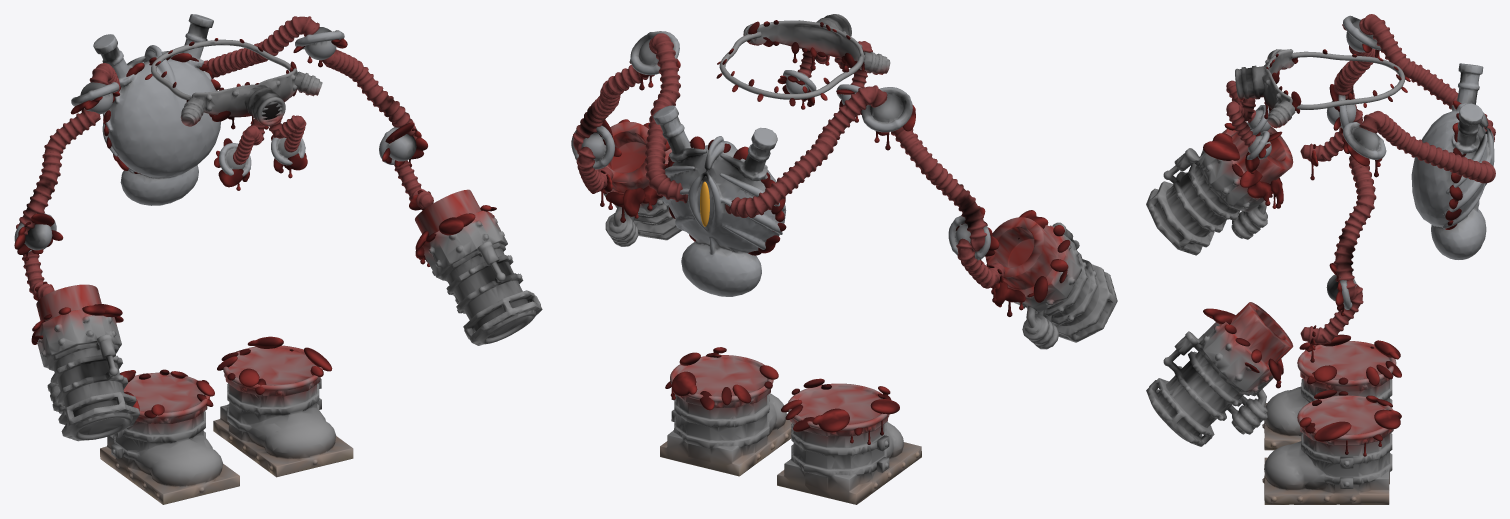
File: tallow-parts.glb
3 renders of one model, left to right at view 1: azimuth 30°, elevation 25°; view 2: azimuth 150°, elevation 25°; view 3: azimuth 270°, elevation 25°, orthographic. The views are drawn at different scales.
Visible parts, largest first — view 1: chest|boiler, foot.l|boot, forearm.r|barrel, foot.r|boot, forearm.l|barrel, skull|mask, upperarm.r|feed, clavicle.l|feed, upperarm.l|feed, foot.l|bgore, clavicle.l|port, forearm.l|gore (+14 smaller); view 2: chest|boiler, foot.r|boot, foot.l|boot, forearm.r|barrel, skull|mask, forearm.l|barrel, clavicle.r|feed, clavicle.l|feed, upperarm.r|feed, foot.r|bgore, upperarm.l|feed, foot.l|bgore (+10 smaller); view 3: forearm.l|barrel, foot.l|boot, forearm.r|barrel, chest|boiler, foot.r|boot, skull|mask, clavicle.l|feed, upperarm.l|feed, clavicle.r|feed, forearm.r|gore, foot.l|bgore, foot.r|bgore (+13 smaller).
Boxes of the visible parts, bbox=[...] form: chest|boiler: bbox=[93, 14, 220, 205]; foot.l|boot: bbox=[213, 345, 353, 477]; forearm.r|barrel: bbox=[35, 284, 139, 441]; foot.r|boot: bbox=[100, 372, 239, 504]; forearm.l|barrel: bbox=[415, 189, 542, 345]; skull|mask: bbox=[151, 39, 322, 126]; upperarm.r|feed: bbox=[16, 109, 100, 235]; clavicle.l|feed: bbox=[203, 16, 319, 78]; upperarm.l|feed: bbox=[322, 49, 417, 139]; foot.l|bgore: bbox=[217, 336, 332, 394]; clavicle.l|port: bbox=[295, 27, 344, 60]; forearm.l|gore: bbox=[415, 205, 496, 266]; chest|boiler: bbox=[653, 105, 786, 296]; foot.r|boot: bbox=[777, 383, 921, 504]; foot.l|boot: bbox=[660, 355, 792, 476]; forearm.r|barrel: bbox=[985, 217, 1117, 349]; skull|mask: bbox=[719, 14, 890, 99]; forearm.l|barrel: bbox=[603, 121, 681, 246]; clavicle.r|feed: bbox=[725, 85, 887, 217]; clavicle.l|feed: bbox=[644, 33, 687, 203]; upperarm.r|feed: bbox=[891, 126, 986, 251]; foot.r|bgore: bbox=[781, 378, 899, 444]; upperarm.l|feed: bbox=[573, 64, 654, 154]; foot.l|bgore: bbox=[665, 347, 778, 410]; forearm.l|barrel: bbox=[1146, 302, 1293, 446]; foot.l|boot: bbox=[1262, 395, 1393, 504]; forearm.r|barrel: bbox=[1146, 126, 1293, 255]; chest|boiler: bbox=[1411, 63, 1494, 259]; foot.r|boot: bbox=[1262, 341, 1396, 450]; skull|mask: bbox=[1235, 49, 1405, 128]; clavicle.l|feed: bbox=[1359, 111, 1495, 183]; upperarm.l|feed: bbox=[1333, 155, 1376, 300]; clavicle.r|feed: bbox=[1359, 14, 1495, 141]; forearm.r|gore: bbox=[1203, 123, 1283, 208]; foot.l|bgore: bbox=[1299, 390, 1401, 456]; foot.r|bgore: bbox=[1299, 334, 1401, 385].
Size of the model in its own units: 2.02 by 1.65 by 1.32.
